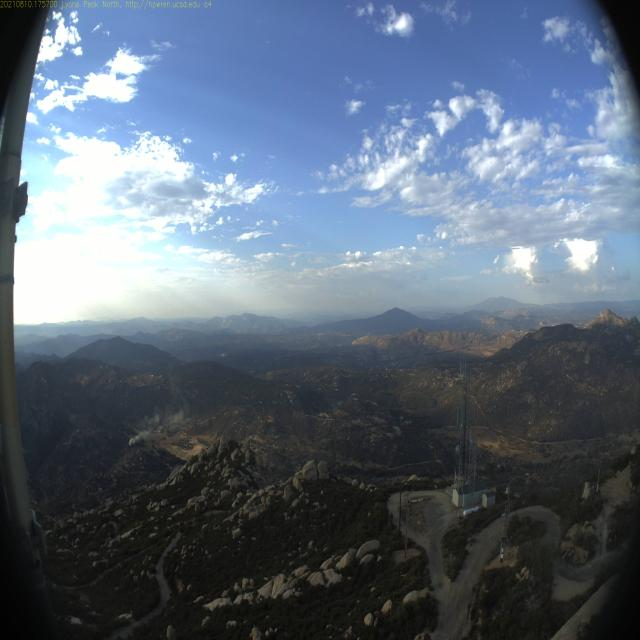smoke: (140, 407, 187, 437), (126, 430, 144, 448)
